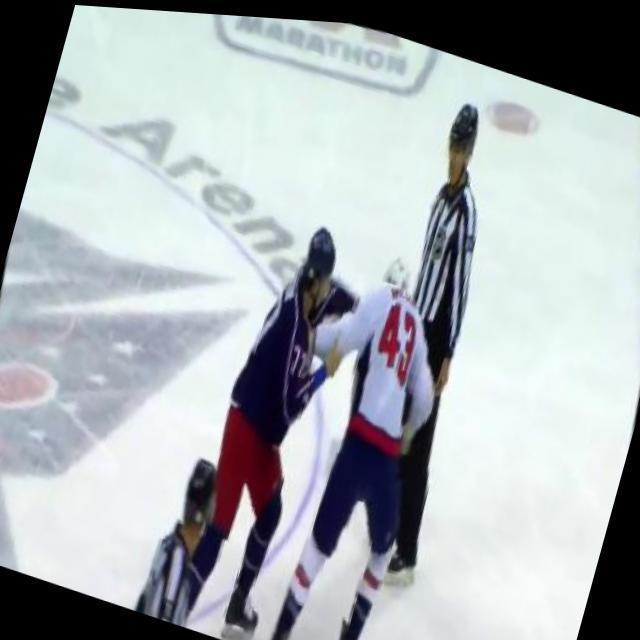fight: (150, 188, 500, 640)
